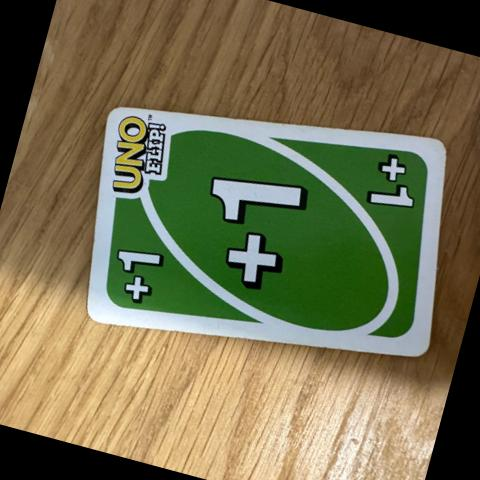lgreen-10: (92, 219, 188, 324)
